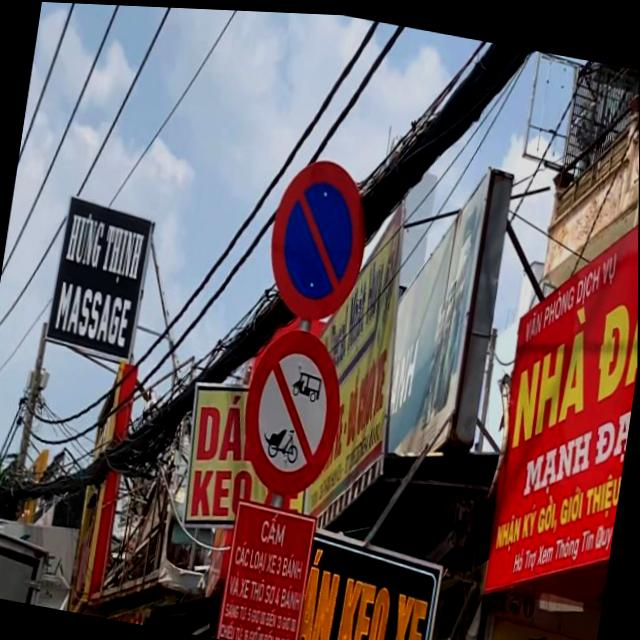Cam do xe: (260, 149, 377, 327)
